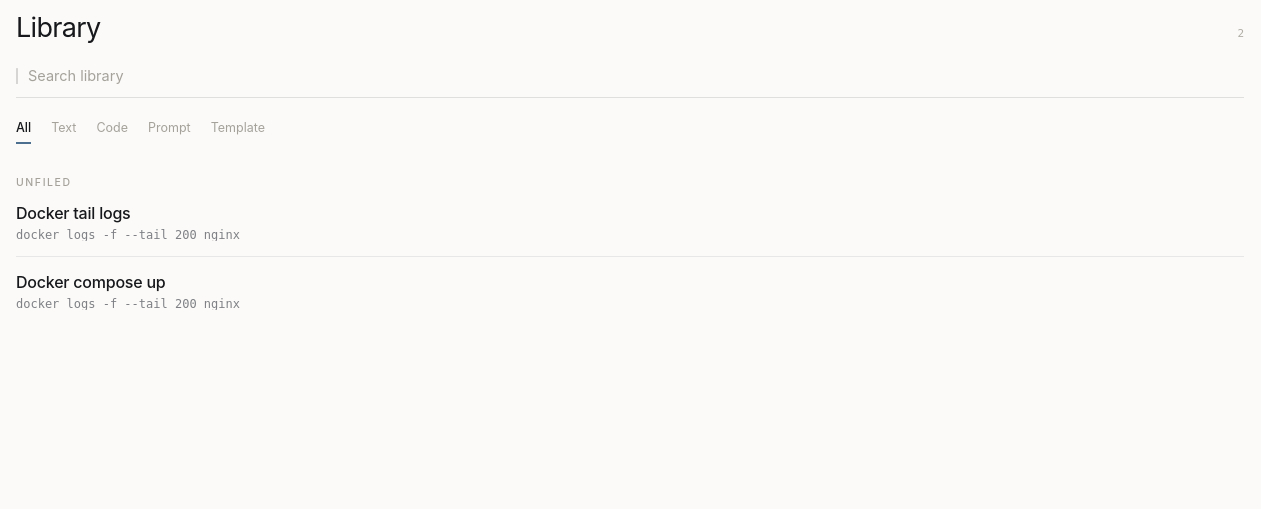
mobile LibraryPage › searches instantly on every keystroke and replaces the results
The image size is (1261, 509).
Expected: the text "Docker tail logs" is shown, [16,203,130,223]
Step 1. Type "d" into the search field labelled "Search library" → {"x": 636, "y": 76}, box [28,67,1244,84]
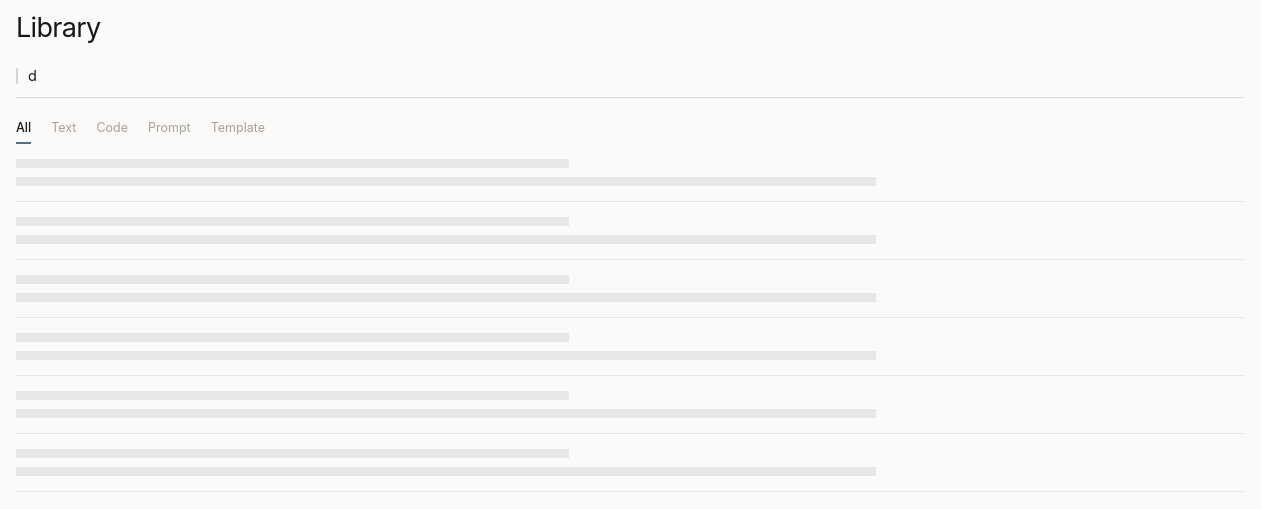
Step 2. Replace the text in the search field named "Search library" with "do" → {"x": 636, "y": 76}, box [28,67,1244,84]
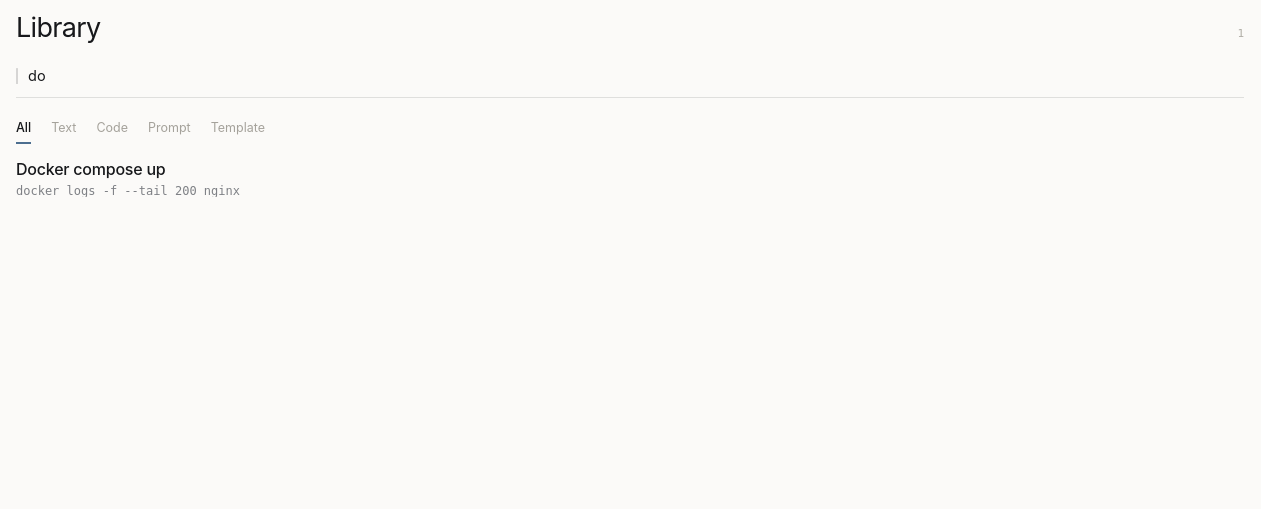
Expected: the button "Docker tail logs" is not shown
Now the text "Docker compose up" is shown, box [16,159,166,179]
